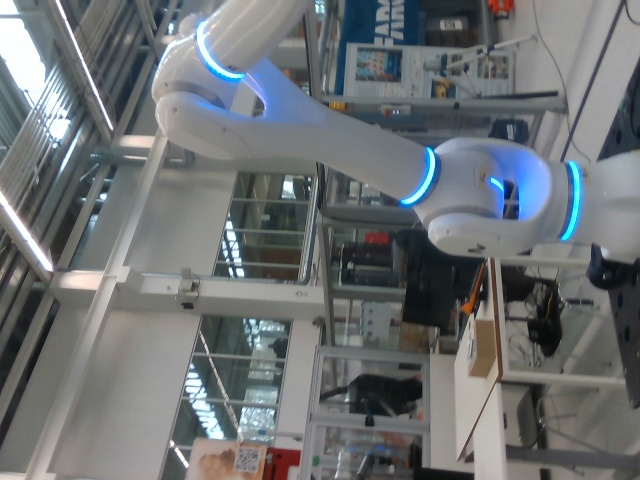Robot arm: (149, 1, 639, 268)
